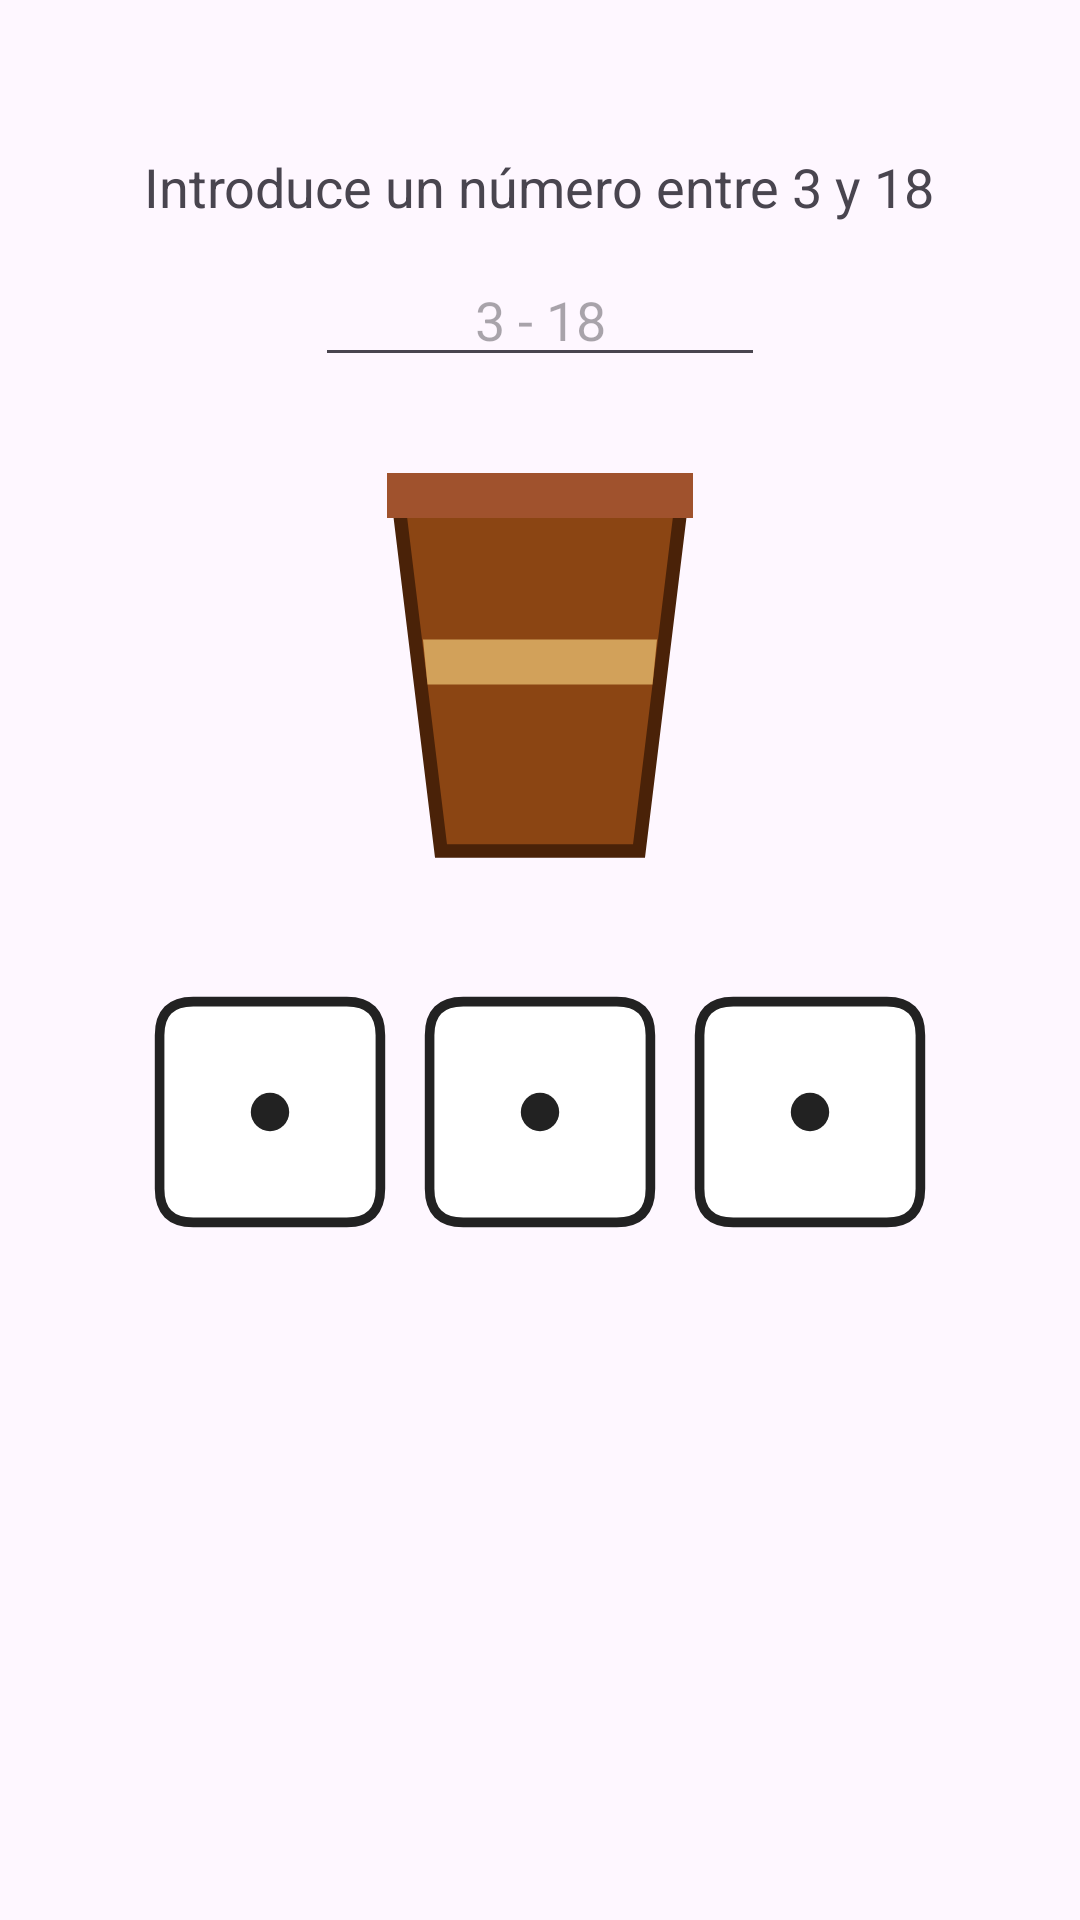

Named icons in this screenshot (1080*1920) and their bounding boxes, (x1,y1,x2,y2):
dado: (154,996,386,1228), (424,996,656,1228), (694,996,926,1228)
